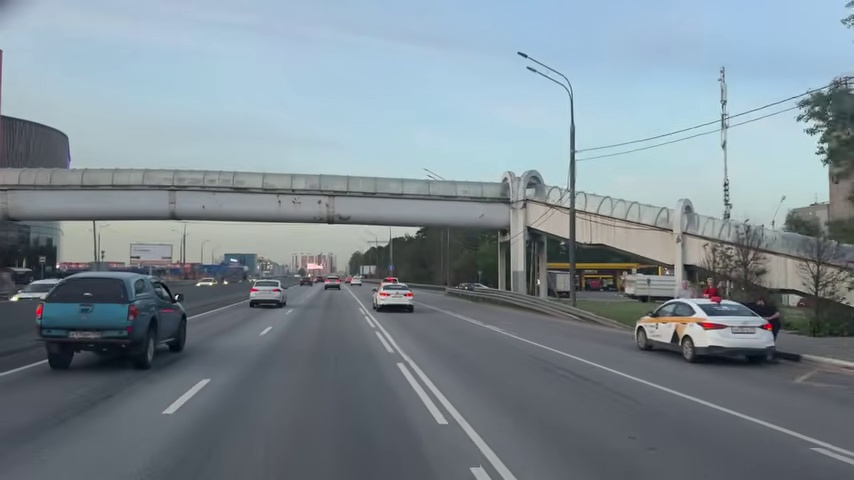apagada: (514, 49, 538, 78), (513, 48, 533, 67)
